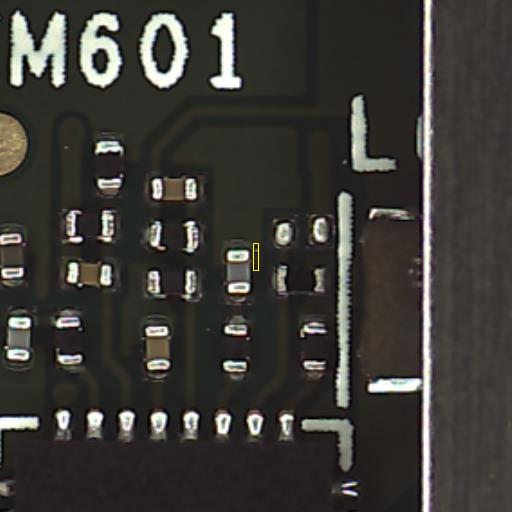bottom_layer: (272, 214, 335, 249), (139, 267, 201, 302), (222, 240, 254, 303), (54, 310, 86, 372), (142, 315, 171, 383), (61, 210, 121, 242), (299, 315, 329, 379), (60, 258, 118, 291), (95, 133, 123, 197), (223, 316, 251, 378), (271, 265, 326, 295), (1, 223, 27, 286), (7, 308, 33, 370), (144, 222, 199, 251), (144, 175, 203, 201)
top_layer: (276, 219, 329, 244), (56, 316, 83, 363), (146, 270, 196, 294), (301, 322, 326, 368), (98, 142, 123, 187), (277, 267, 323, 291), (224, 325, 248, 371), (65, 213, 115, 235), (67, 261, 111, 286), (145, 326, 169, 370), (227, 249, 250, 293), (7, 316, 31, 358), (149, 225, 192, 247), (151, 177, 195, 198), (2, 235, 23, 279)
